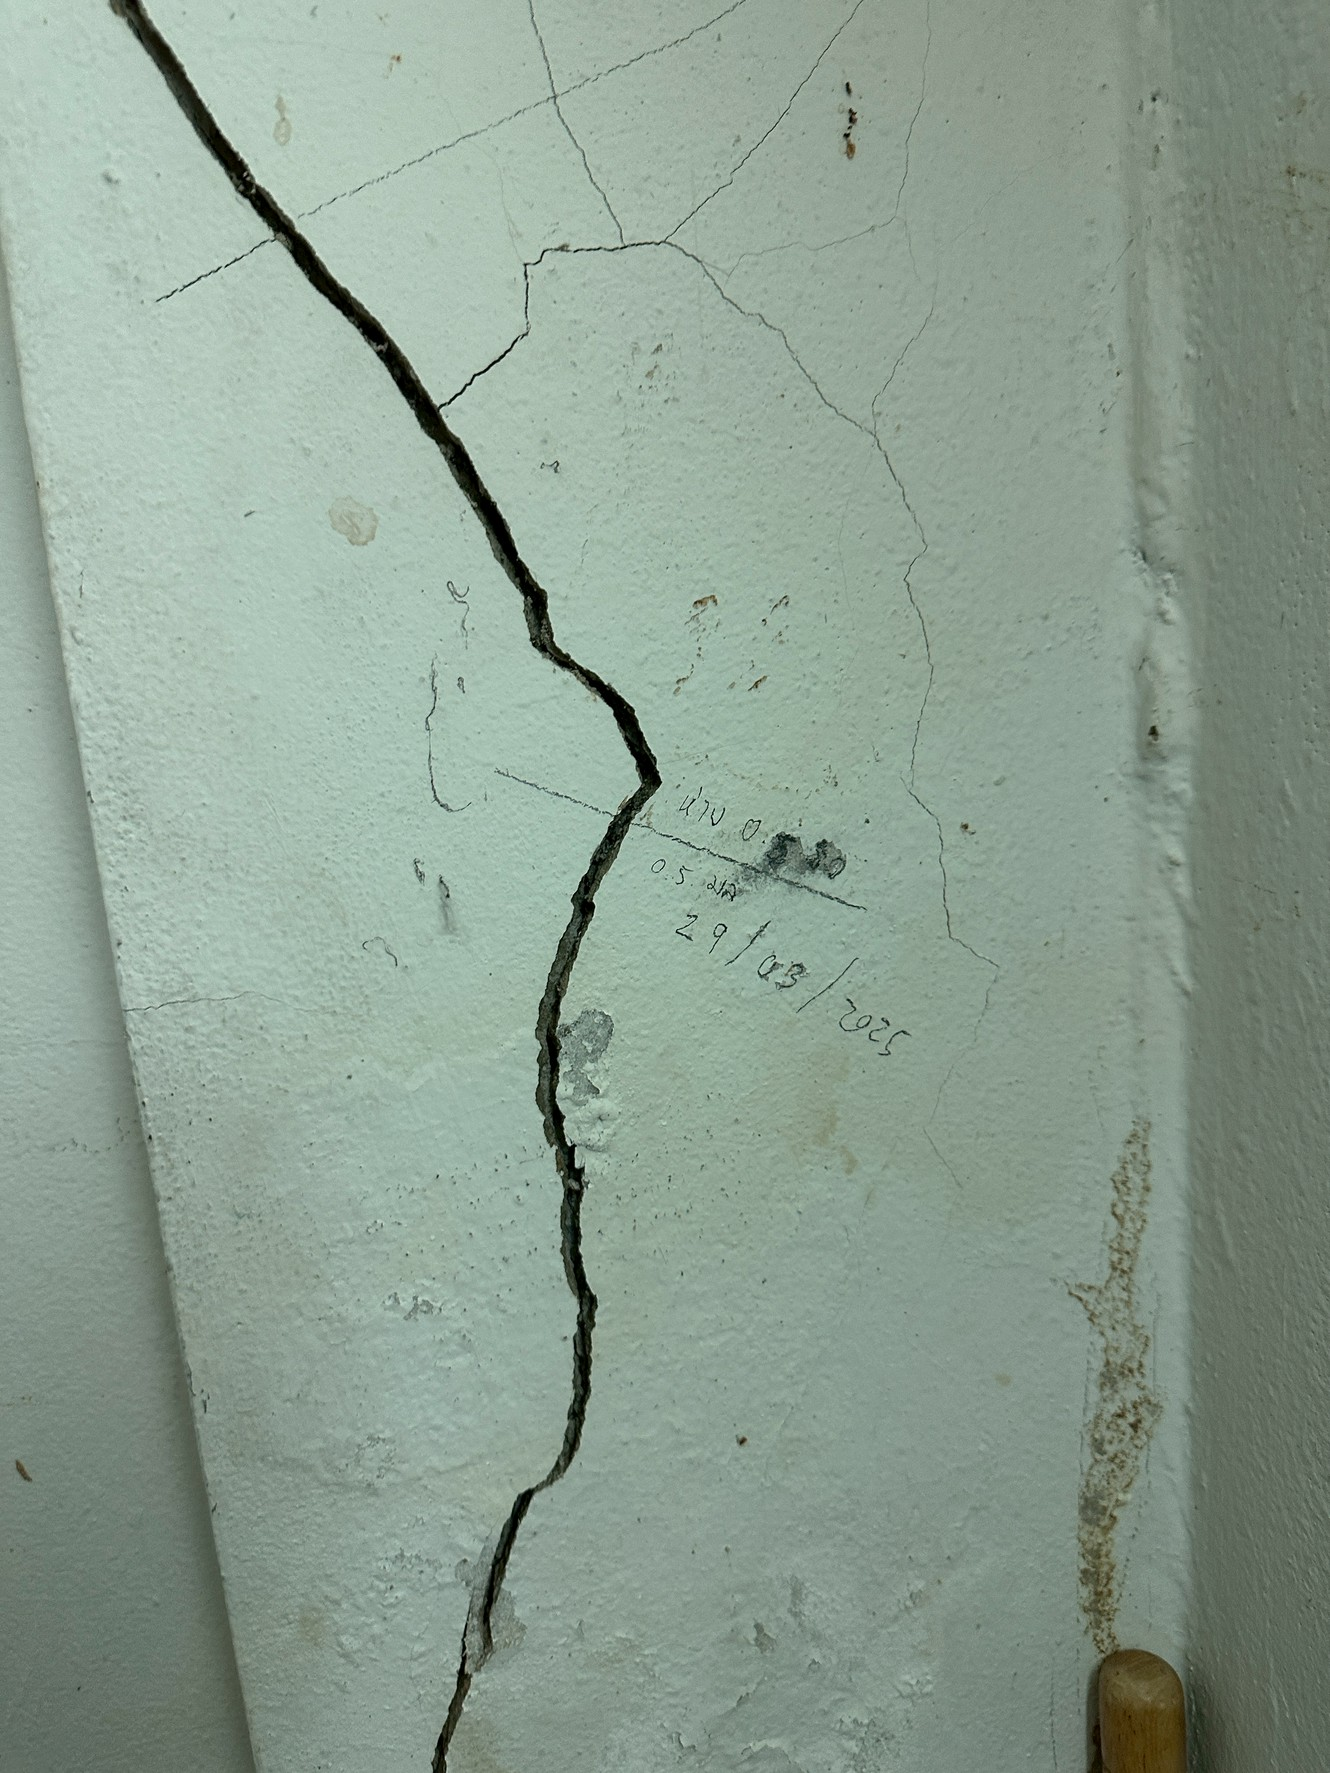High: (85, 1, 692, 1773)
